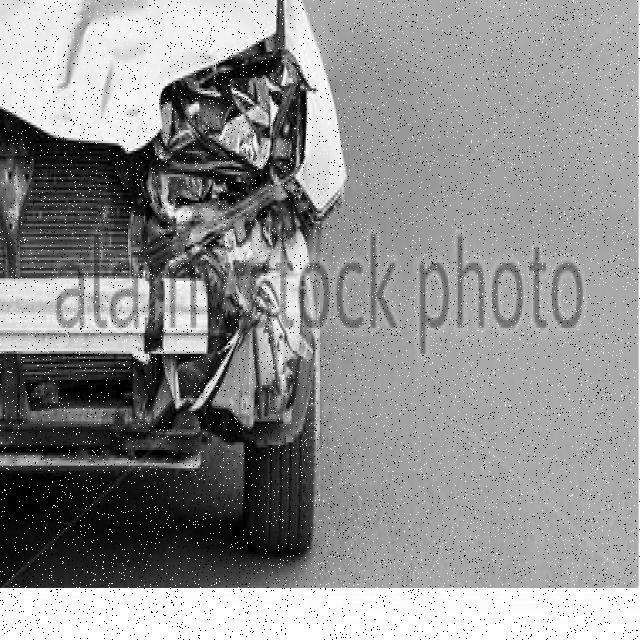bonnet-dent: (1, 5, 276, 159)
